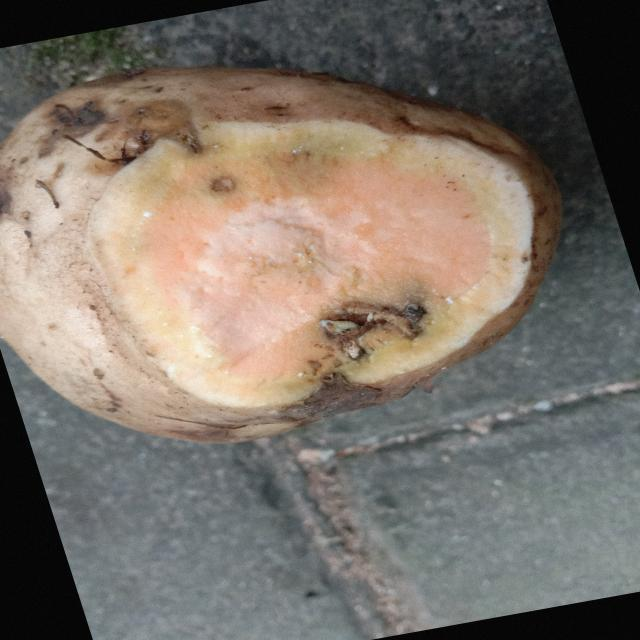Sick Sweet Potato_Tuber Rot: (88, 121, 533, 409)
